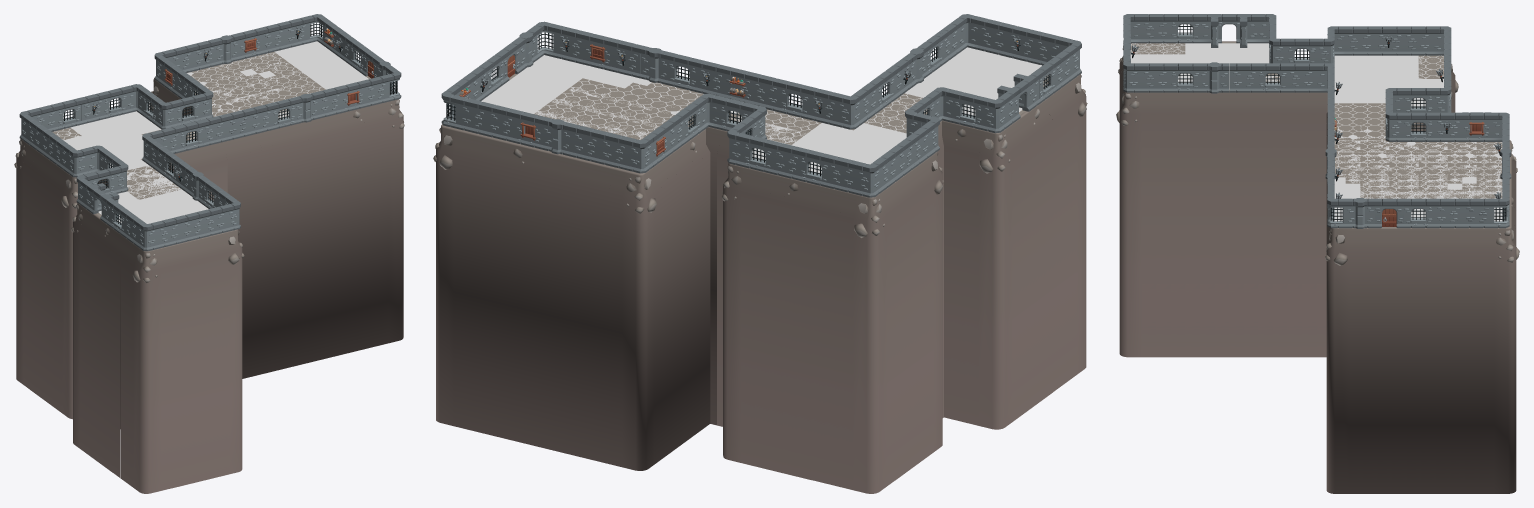
The model's file is Map_02.fbx.
3 views of the same model, side by side, from view 1: azimuth 30°, elevation 25°; view 2: azimuth 150°, elevation 25°; view 3: azimuth 270°, elevation 25° (orthographic). The views are drawn at different scales.
Parts seen in each view (by area): view 1: PlaneEnemyAI_Hide, SM_World_01_BottomFloor_Corner.002, SM_World_01_BottomFloor_Corner.009, SM_World_01_BottomFloor_Corner.006, SM_World_01_BottomFloor_Straight.152, SM_World_01_BottomFloor_Straight.003, SM_World_01_BottomFloor_Straight.010, SM_World_01_BottomFloor_Straight.002, SM_World_01_BottomFloor_Straight.009, SM_World_01_BottomFloor_Straight.011, SM_World_01_BottomFloor_Straight.146, SM_World_01_BottomFloor_Straight.145 (+67 smaller); view 2: PlaneEnemyAI_Hide, SM_World_01_BottomFloor_Corner.004, SM_World_01_BottomFloor_Corner.003, SM_World_01_BottomFloor_Corner.008, SM_World_01_BottomFloor_Corner.005, SM_World_01_BottomFloor_Corner.007, SM_World_01_BottomFloor_Straight.111, SM_World_01_BottomFloor_Straight.122, SM_World_01_BottomFloor_Straight.120, SM_World_01_BottomFloor_Straight.119, SM_World_01_BottomFloor_Straight.118, SM_World_01_BottomFloor_Straight.103 (+73 smaller); view 3: PlaneEnemyAI_Hide, SM_World_01_BottomFloor_Corner.005, SM_World_01_BottomFloor_Corner.009, SM_World_01_BottomFloor_Corner.006, SM_World_01_BottomFloor_Straight.123, SM_World_01_BottomFloor_Straight.132, SM_World_01_BottomFloor_Straight.030, SM_World_01_BottomFloor_Straight.032, SM_World_01_BottomFloor_Straight.047, SM_World_01_BottomFloor_Straight.137, SM_World_01_BottomFloor_Straight.131, SM_World_01_BottomFloor_Straight.033 (+44 smaller).
Part boxes in pixels (<box>): PlaneEnemyAI_Hide: <box>54,41,368,223</box>; SM_World_01_BottomFloor_Corner.002: <box>132,246,160,493</box>; SM_World_01_BottomFloor_Corner.009: <box>225,229,244,474</box>; SM_World_01_BottomFloor_Corner.006: <box>387,99,404,343</box>; SM_World_01_BottomFloor_Straight.152: <box>248,133,262,376</box>; SM_World_01_BottomFloor_Straight.003: <box>193,237,206,482</box>; SM_World_01_BottomFloor_Straight.010: <box>181,240,195,485</box>; SM_World_01_BottomFloor_Straight.002: <box>205,235,218,479</box>; SM_World_01_BottomFloor_Straight.009: <box>159,246,172,490</box>; SM_World_01_BottomFloor_Straight.011: <box>170,243,183,487</box>; SM_World_01_BottomFloor_Straight.146: <box>271,127,285,371</box>; SM_World_01_BottomFloor_Straight.145: <box>294,122,308,365</box>; PlaneEnemyAI_Hide: <box>481,47,1047,173</box>; SM_World_01_BottomFloor_Corner.004: <box>622,169,656,470</box>; SM_World_01_BottomFloor_Corner.003: <box>979,127,1012,429</box>; SM_World_01_BottomFloor_Corner.008: <box>853,192,886,493</box>; SM_World_01_BottomFloor_Corner.005: <box>433,124,456,425</box>; SM_World_01_BottomFloor_Corner.007: <box>722,163,743,462</box>; SM_World_01_BottomFloor_Straight.111: <box>594,163,611,463</box>; SM_World_01_BottomFloor_Straight.122: <box>481,136,499,436</box>; SM_World_01_BottomFloor_Straight.120: <box>467,132,485,432</box>; SM_World_01_BottomFloor_Straight.119: <box>495,139,513,439</box>; SM_World_01_BottomFloor_Straight.118: <box>509,143,527,443</box>; SM_World_01_BottomFloor_Straight.103: <box>608,166,625,466</box>; PlaneEnemyAI_Hide: <box>1130,43,1502,221</box>; SM_World_01_BottomFloor_Corner.005: <box>1494,220,1519,493</box>; SM_World_01_BottomFloor_Corner.009: <box>1116,91,1141,357</box>; SM_World_01_BottomFloor_Corner.006: <box>1325,228,1348,493</box>; SM_World_01_BottomFloor_Straight.123: <box>1377,227,1392,493</box>; SM_World_01_BottomFloor_Straight.132: <box>1479,228,1494,493</box>; SM_World_01_BottomFloor_Straight.030: <box>1272,92,1287,357</box>; SM_World_01_BottomFloor_Straight.032: <box>1243,92,1258,357</box>; SM_World_01_BottomFloor_Straight.047: <box>1141,92,1156,357</box>; SM_World_01_BottomFloor_Straight.137: <box>1348,228,1363,493</box>; SM_World_01_BottomFloor_Straight.131: <box>1392,227,1406,493</box>; SM_World_01_BottomFloor_Straight.033: <box>1229,90,1243,357</box>.
Size of what is drawn, in the model's own units: 63.03 by 55.44 by 44.02.
